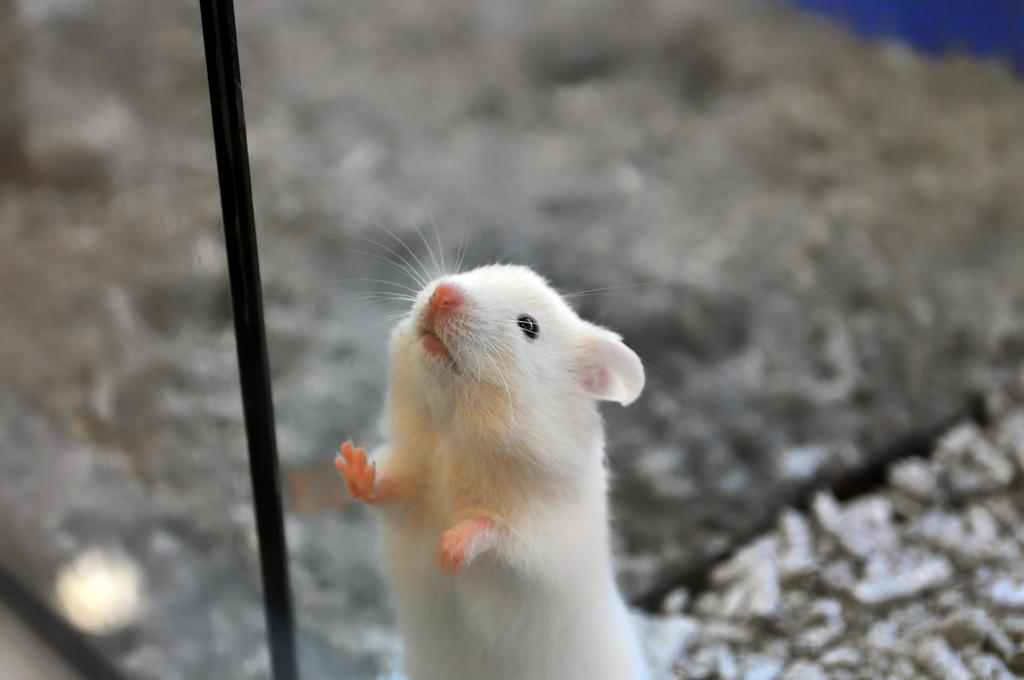mouse: (334, 264, 648, 680)
